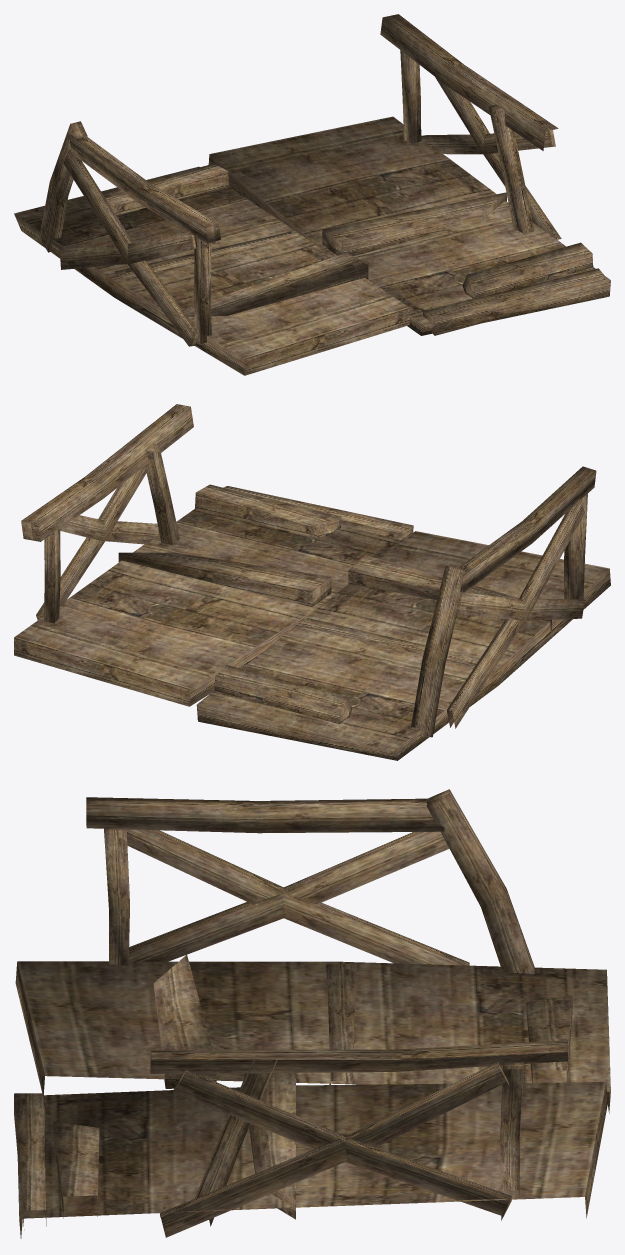
The model's file is S_Build_West069_3.fbx.
3 renders of one model, top to bottom at view 1: azimuth 30°, elevation 25°; view 2: azimuth 150°, elevation 25°; view 3: azimuth 270°, elevation 25°, orthographic. The views are drawn at different scales.
Visible parts, largest first — view 1: S_Build_West069_3; view 2: S_Build_West069_3; view 3: S_Build_West069_3.
Part boxes in pixels (x1,y1,x2,y2): S_Build_West069_3: [14, 14, 610, 375]; S_Build_West069_3: [14, 404, 610, 760]; S_Build_West069_3: [14, 789, 610, 1238].
Size of the model in its own units: 282 by 104 by 278.
